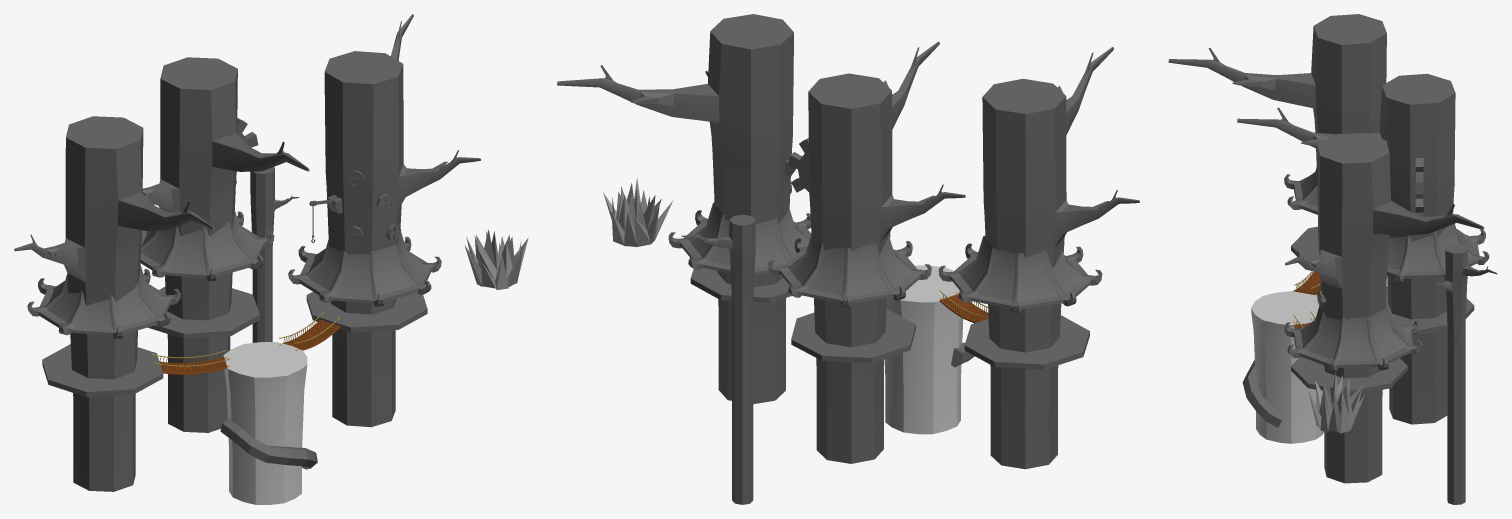
The model's file is bush.FBX.
3 views of the same model, side by side, from view 1: azimuth 30°, elevation 25°; view 2: azimuth 150°, elevation 25°; view 3: azimuth 270°, elevation 25° (orthographic). The views are drawn at different scales.
Visible parts, largest first — view 1: polySurface16, polySurface15, polySurface10, pCylinder1, polySurface7, polySurface18, polySurface17, polySurface19, pCylinder10, pCylinder3, pCylinder7, bush (+3 smaller); view 2: polySurface16, polySurface10, polySurface15, pCylinder1, polySurface18, polySurface17, polySurface19, polySurface7, pCylinder10, pCylinder7, bush, pCylinder3 (+2 smaller); view 3: polySurface15, polySurface10, polySurface16, pCylinder1, polySurface7, polySurface19, polySurface18, bush, pCylinder3, polySurface17, pCylinder12, pCylinder7 (+3 smaller).
Part boxes in pixels (left/top/right/bottom): polySurface16: left=14, top=116, right=214, bottom=491; polySurface15: left=324, top=14, right=480, bottom=427; polySurface10: left=142, top=57, right=309, bottom=432; pCylinder1: left=223, top=342, right=307, bottom=504; polySurface7: left=288, top=232, right=441, bottom=306; polySurface18: left=140, top=210, right=274, bottom=281; polySurface17: left=27, top=265, right=180, bottom=338; polySurface19: left=250, top=152, right=299, bottom=342; pCylinder10: left=42, top=344, right=163, bottom=396; pCylinder3: left=306, top=292, right=427, bottom=332; pCylinder7: left=148, top=287, right=259, bottom=338; bush: left=464, top=229, right=528, bottom=289; polySurface16: left=982, top=47, right=1139, bottom=469; polySurface10: left=808, top=41, right=965, bottom=463; polySurface15: left=557, top=14, right=793, bottom=403; pCylinder1: left=884, top=265, right=963, bottom=434; polySurface18: left=768, top=235, right=931, bottom=307; polySurface17: left=938, top=235, right=1102, bottom=313; polySurface19: left=681, top=214, right=755, bottom=504; polySurface7: left=668, top=202, right=811, bottom=274; pCylinder10: left=964, top=315, right=1089, bottom=369; pCylinder7: left=791, top=309, right=915, bottom=363; bush: left=603, top=177, right=672, bottom=247; pCylinder3: left=690, top=267, right=791, bottom=302; polySurface15: left=1285, top=133, right=1484, bottom=483; polySurface10: left=1237, top=73, right=1455, bottom=424; polySurface16: left=1168, top=14, right=1386, bottom=170; pCylinder1: left=1251, top=291, right=1324, bottom=443; polySurface7: left=1284, top=305, right=1422, bottom=370; polySurface19: left=1435, top=244, right=1497, bottom=504; polySurface18: left=1387, top=223, right=1489, bottom=281; bush: left=1308, top=372, right=1365, bottom=433; pCylinder3: left=1291, top=357, right=1407, bottom=395; polySurface17: left=1284, top=168, right=1317, bottom=214; pCylinder12: left=1242, top=360, right=1285, bottom=427; pCylinder7: left=1386, top=286, right=1474, bottom=335.
Bounding box in the file's own units: 353 × 262 × 209.
